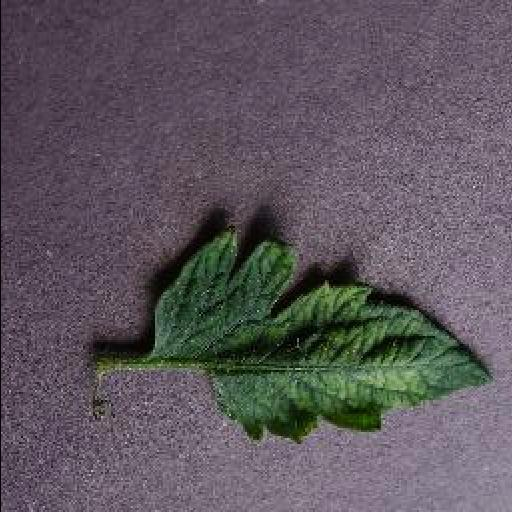disease_tomato: (150, 227, 498, 441)
